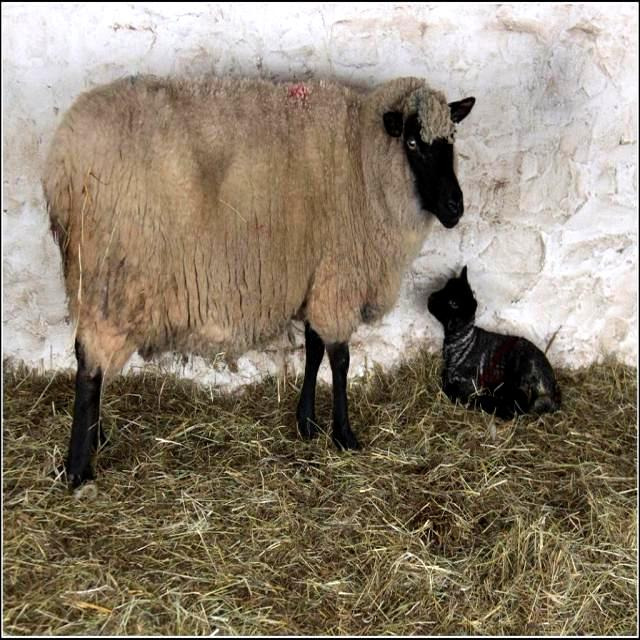sheep: (43, 72, 475, 487), (428, 265, 561, 420)
